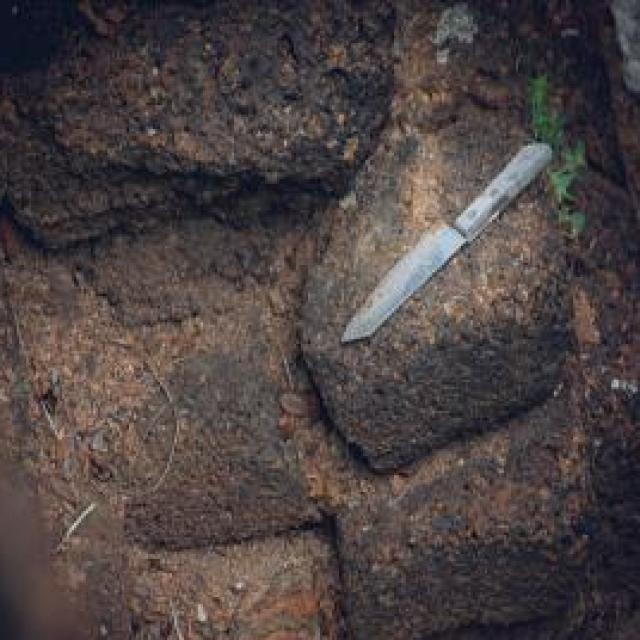knife: (337, 138, 555, 348)
